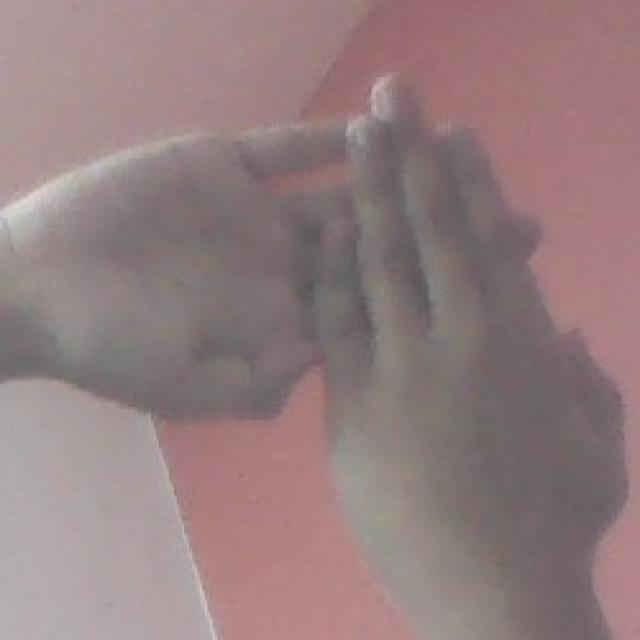Alphabet-H: (20, 72, 632, 580)
